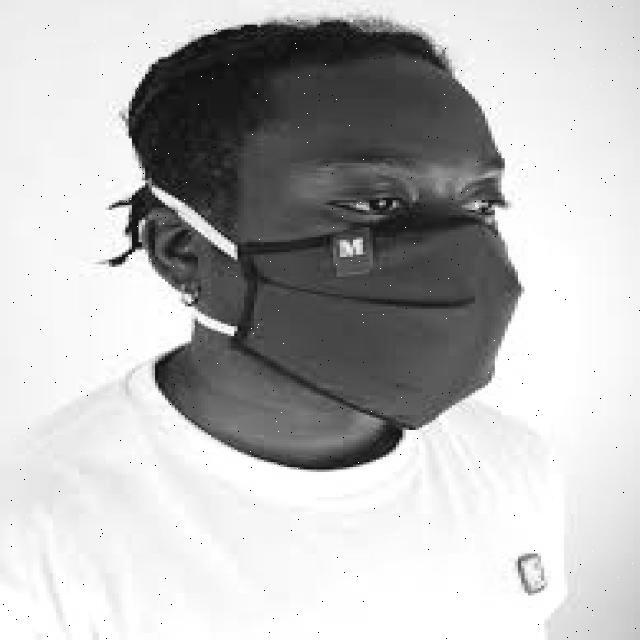fake: (177, 214, 541, 440)
real: (226, 54, 526, 436)
